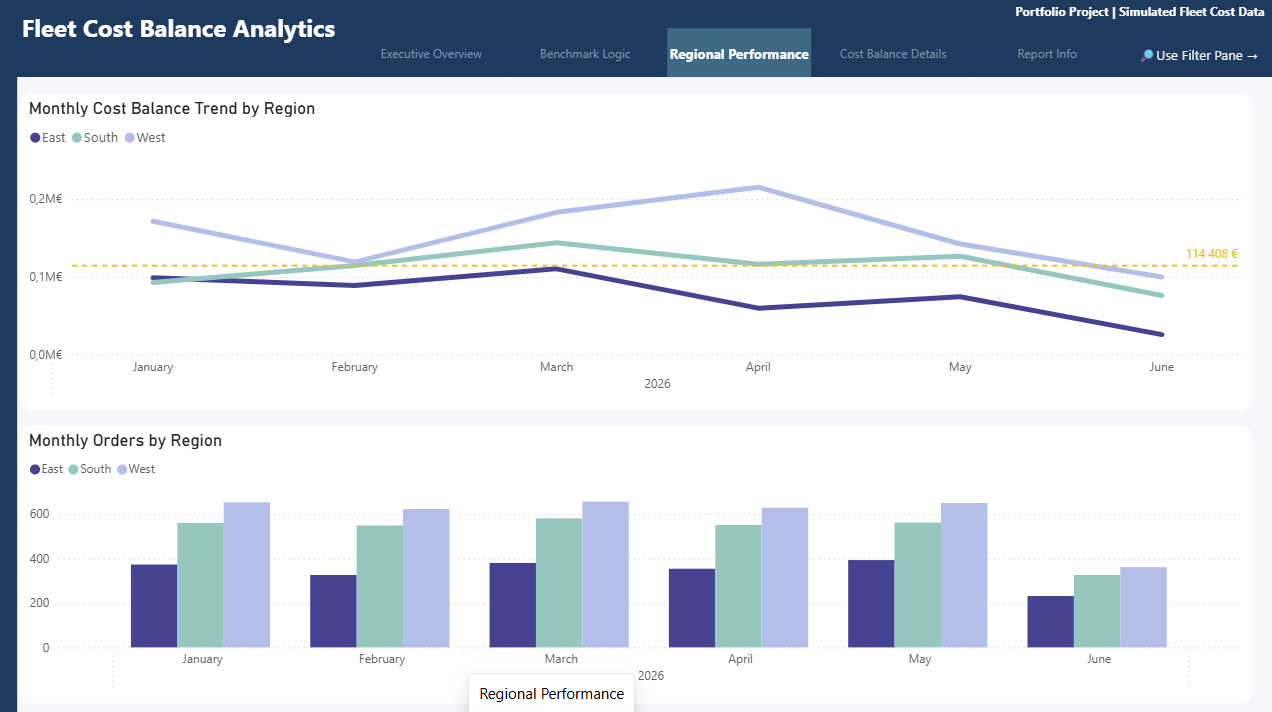

This screenshot's page, from the dashboard's own definition file:
{"tool":"powerbi","page":{"name":"Regional Performance","canvas":[1280,720],"ordinal":2},"visuals":[{"type":"clusteredColumnChart","title":"Monthly Orders by Region","fields":{"Category":["dim_calendar.Year","dim_calendar.Month Name"],"Y":["_measures.Total Orders"],"Series":["dim_route.operating_region"]},"box":[19.5,427.1,1235.5,279.7],"z":2000},{"type":"lineChart","title":"Monthly Cost Balance Trend by Region","fields":{"Category":["dim_calendar.Year","dim_calendar.Month Name"],"Y":["_measures.Total Cost Balance"],"Series":["dim_route.operating_region"]},"box":[19.5,94.6,1235.5,320],"z":3000},{"type":"shape","box":[0,0,1280.3,80],"z":5000},{"type":"textbox","box":[19.2,10,332.1,67.2],"z":6000},{"type":"textbox","box":[1012.4,0,267.6,39.8],"z":7000},{"type":"pageNavigator","box":[360.9,31,661.4,49.4],"z":8000}]}

Visuals, with their boxes in screenshot pixels (x1, y1, x2, y2), scaled from the page's 1280x720 canvas onto the 1272x712 screenshot:
"Monthly Orders by Region" clusteredColumnChart: [19,422,1247,699]
"Monthly Cost Balance Trend by Region" lineChart: [19,94,1247,410]
shape: [0,0,1271,79]
textbox: [19,10,349,76]
textbox: [1006,0,1271,39]
pageNavigator: [359,31,1016,80]
